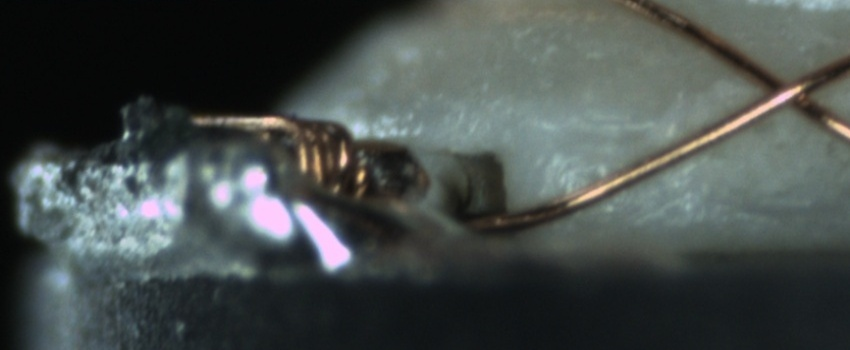CL: (731, 52, 832, 125)
DL: (551, 108, 671, 168)
TE: (188, 108, 362, 199)
